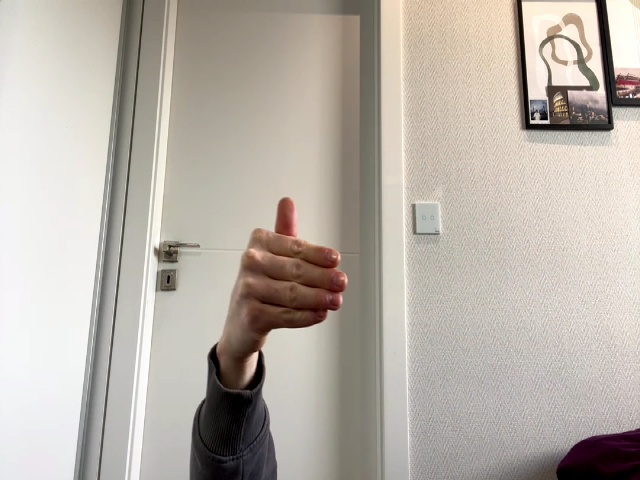M: (229, 198, 348, 355)
